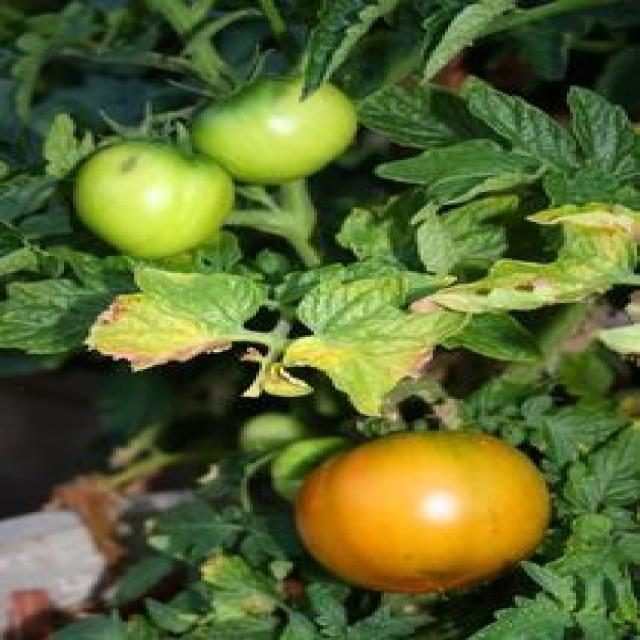level 2: (75, 140, 238, 259), (193, 77, 358, 184)
level 4: (302, 427, 552, 592)
